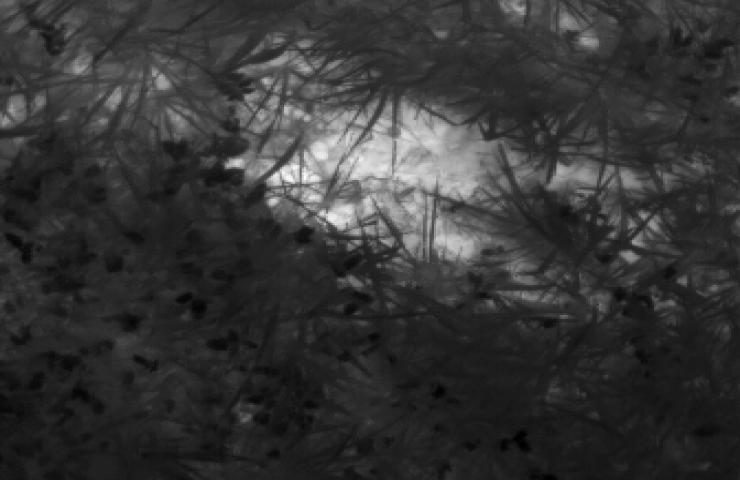landmines: (219, 32, 551, 258)
